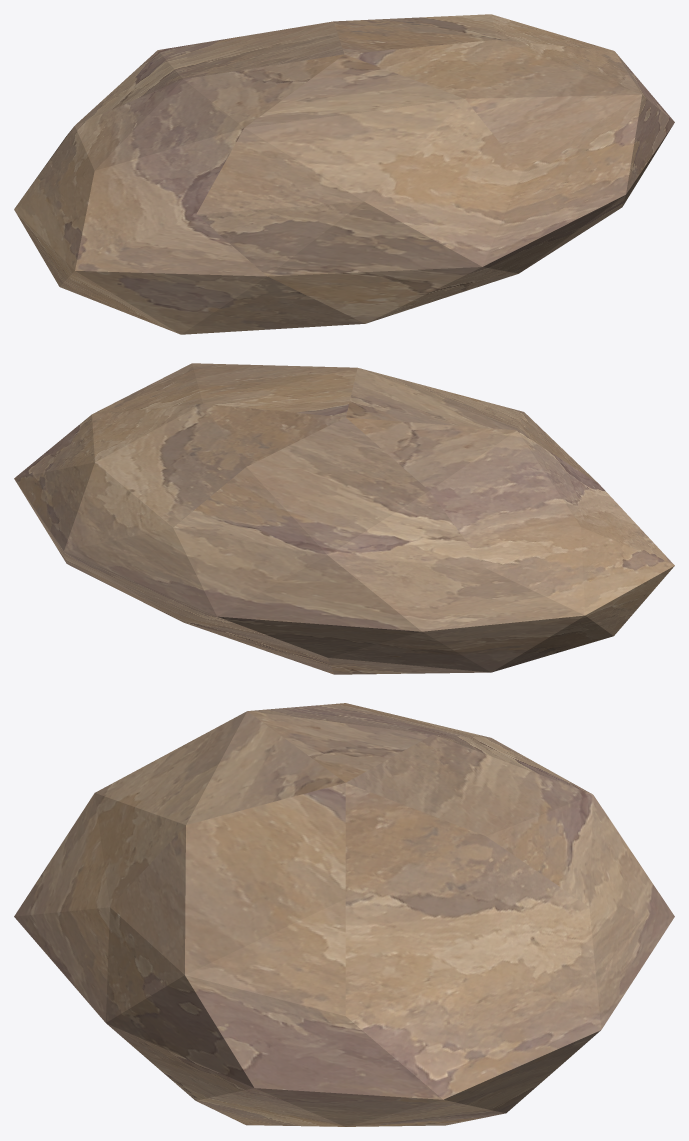
Rendered from SM_WL_NG_PebbleCluster.fbx.
3 renders of one model, top to bottom at view 1: azimuth 30°, elevation 25°; view 2: azimuth 150°, elevation 25°; view 3: azimuth 270°, elevation 25°, orthographic. The views are drawn at different scales.
Visible parts, largest first — view 1: HH_Q2_PebbleCluster; view 2: HH_Q2_PebbleCluster; view 3: HH_Q2_PebbleCluster.
Part boxes in pixels (x1=…): HH_Q2_PebbleCluster: x1=14, y1=14, x2=674, y2=334; HH_Q2_PebbleCluster: x1=14, y1=363, x2=674, y2=674; HH_Q2_PebbleCluster: x1=14, y1=703, x2=674, y2=1126.
Bounding box in the file's own units: 0.3908 × 0.5101 × 0.1794.
